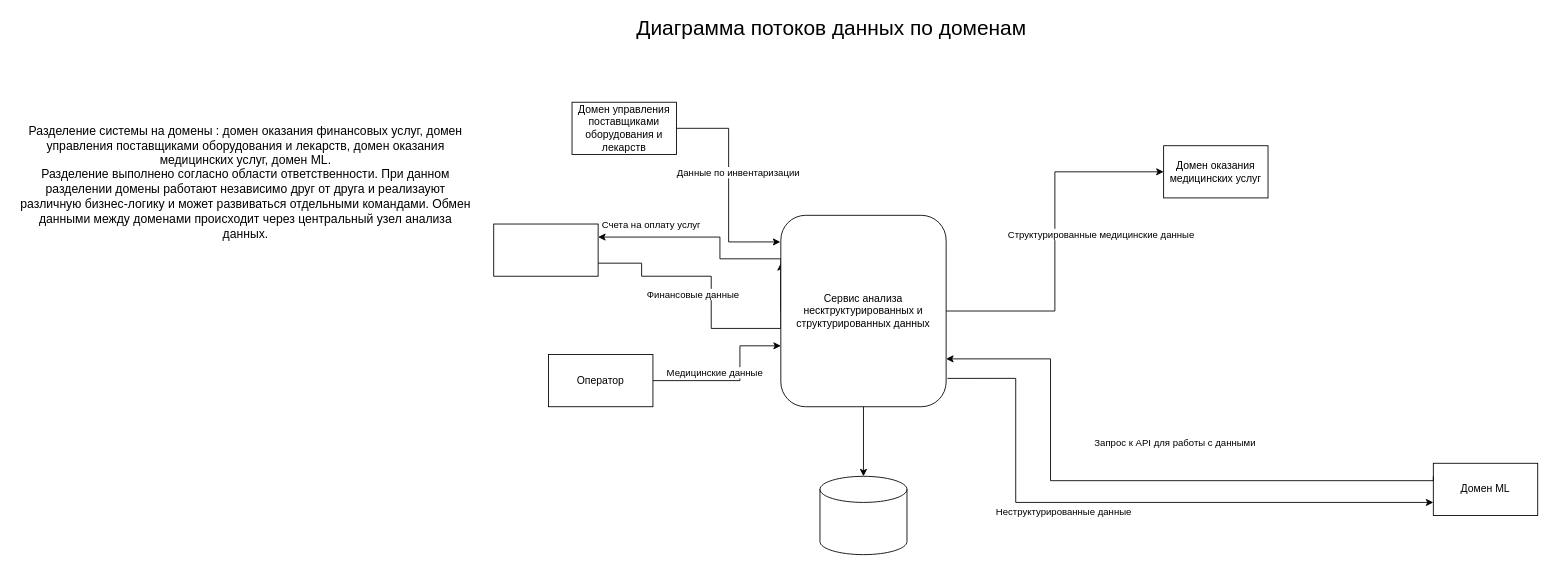
Some shapes in this 1553 by 570 pixel diagram are drawn without their labels. The centre of each missing label's shape, as x and y in pixels:
Домен оказания финансовых услуг: point (545, 249)
хранилище данных: point (863, 515)
